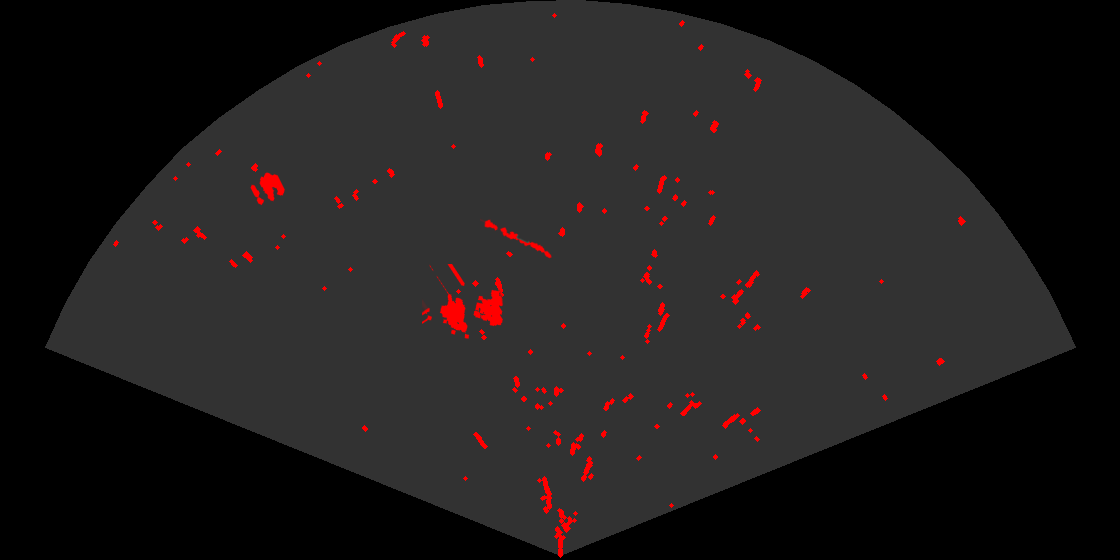ball: (249, 171, 286, 207)
cage: (422, 264, 505, 340)
chain: (480, 217, 553, 260)
